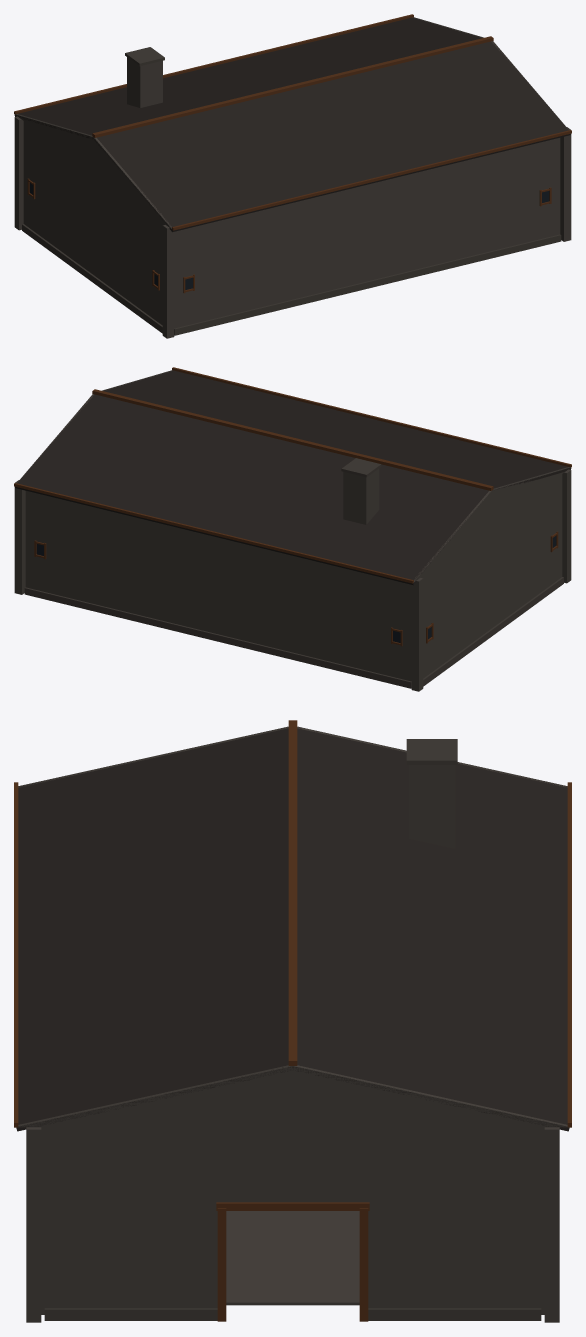
Rendered from smelter.glb.
The picture shows the model from 3 angles, top to bottom: view 1: azimuth 30°, elevation 25°; view 2: azimuth 150°, elevation 25°; view 3: azimuth 270°, elevation 25°; orthographic projection. The views are drawn at different scales.
Visible parts, largest first — view 1: smelter_soot, smelter_roof_soot, smelter_timber, smelter_plinth; view 2: smelter_soot, smelter_roof_soot, smelter_timber, smelter_plinth; view 3: smelter_roof_soot, smelter_soot, smelter_timber, smelter_plinth.
Part boxes in pixels (x1,y1,x2,y2): smelter_soot: [14, 17, 571, 338]; smelter_roof_soot: [14, 17, 570, 232]; smelter_timber: [14, 14, 571, 293]; smelter_plinth: [22, 47, 561, 335]; smelter_soot: [14, 370, 571, 691]; smelter_roof_soot: [15, 370, 571, 585]; smelter_timber: [14, 367, 571, 646]; smelter_plinth: [24, 458, 563, 688]; smelter_roof_soot: [16, 727, 569, 1131]; smelter_soot: [16, 726, 568, 1322]; smelter_timber: [14, 720, 571, 1321]; smelter_plinth: [44, 739, 541, 1320].
Size of the model in its own units: 23.02 by 9.57 by 15.72.
